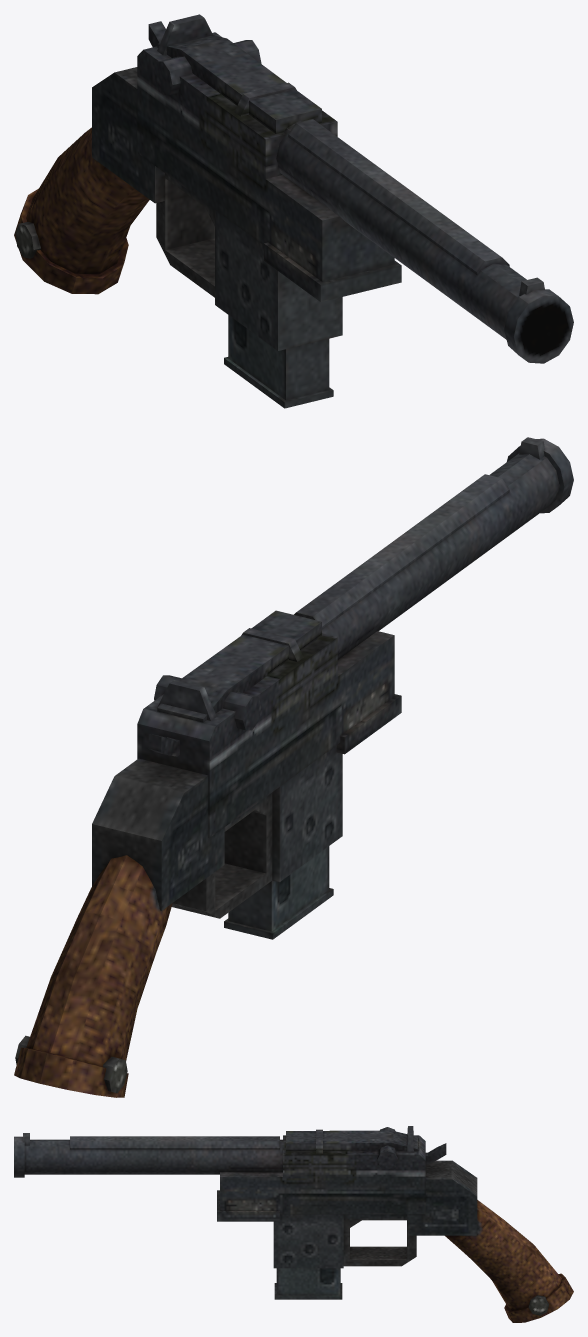
File: Mauser.glb
The picture shows the model from 3 angles, top to bottom: view 1: azimuth 30°, elevation 25°; view 2: azimuth 150°, elevation 25°; view 3: azimuth 270°, elevation 25°; orthographic projection. The views are drawn at different scales.
Visible parts, largest first — view 1: Allegiance; view 2: Allegiance; view 3: Allegiance.
Boxes of the visible parts, x1,y1,x2,y2 form: Allegiance: (14,14,573,408); Allegiance: (14,437,573,1097); Allegiance: (14,1126,573,1322).
Bounding box in the file's own units: 1 × 3.45 × 9.3.
Materials: 1 (1 with a texture image).
